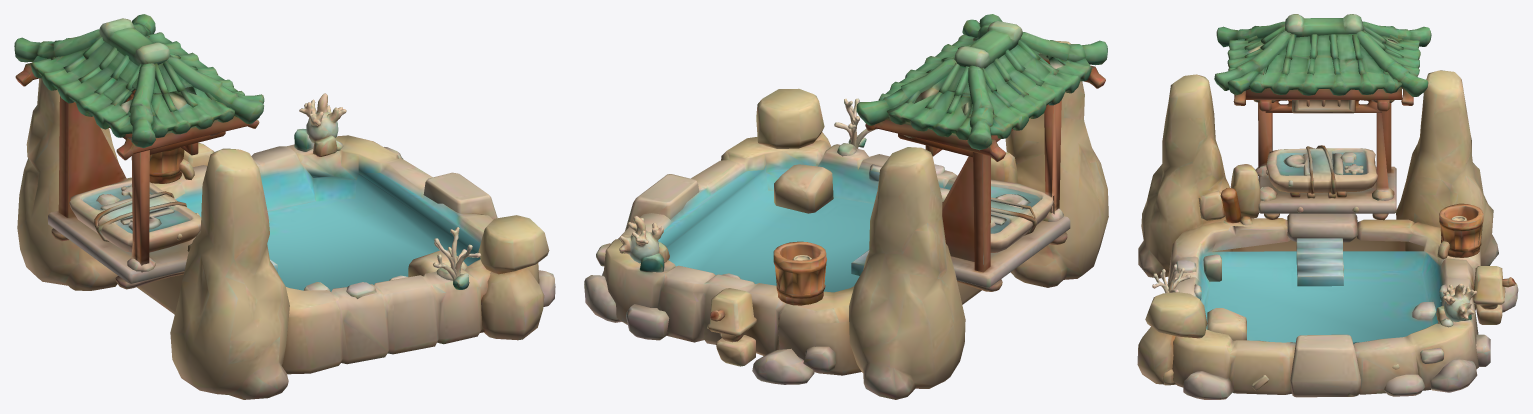
File: onsen.glb
The picture shows the model from 3 angles, left to right: view 1: azimuth 30°, elevation 25°; view 2: azimuth 150°, elevation 25°; view 3: azimuth 270°, elevation 25°; orthographic projection. The views are drawn at different scales.
Visible parts, largest first — view 1: tripo_node_8e15e792-6a20-4af9-8a5e-4cc0f2609b86; view 2: tripo_node_8e15e792-6a20-4af9-8a5e-4cc0f2609b86; view 3: tripo_node_8e15e792-6a20-4af9-8a5e-4cc0f2609b86.
Part boxes in pixels (x1=…): tripo_node_8e15e792-6a20-4af9-8a5e-4cc0f2609b86: x1=14, y1=14, x2=555, y2=399; tripo_node_8e15e792-6a20-4af9-8a5e-4cc0f2609b86: x1=584, y1=14, x2=1108, y2=399; tripo_node_8e15e792-6a20-4af9-8a5e-4cc0f2609b86: x1=1137, y1=14, x2=1518, y2=399.
Size of the model in its own units: 0.998 by 0.6777 by 0.959.
1 material, 1 textured.
